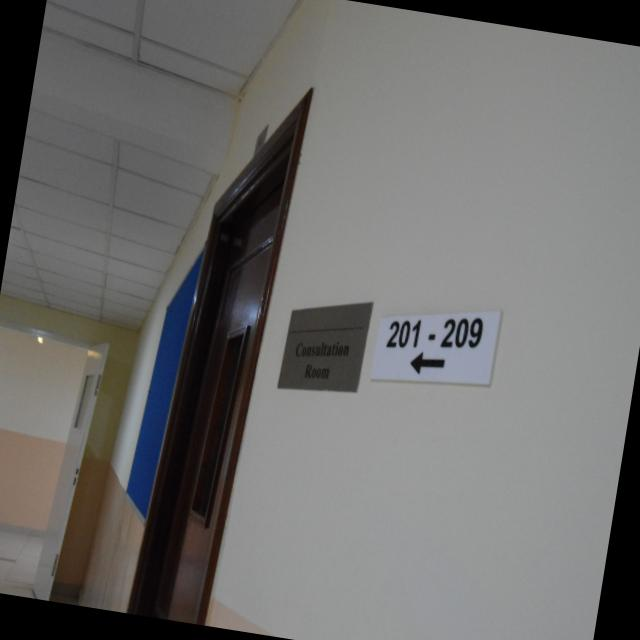board: (120, 242, 206, 524)
door: (132, 70, 316, 630), (0, 316, 113, 604)
sign: (369, 285, 506, 393), (275, 304, 372, 401), (244, 120, 272, 160)
